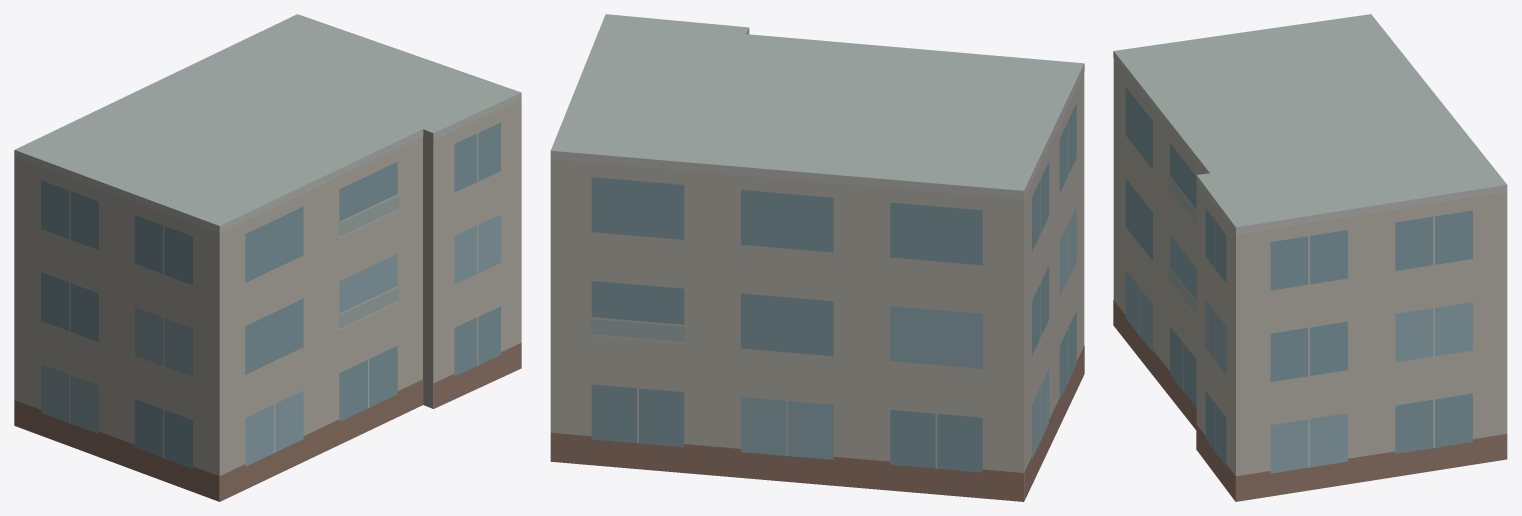
The model's file is survey-upis-32662698.glb.
3 renders of one model, left to right at view 1: azimuth 30°, elevation 25°; view 2: azimuth 150°, elevation 25°; view 3: azimuth 270°, elevation 25°, orthographic. The views are drawn at different scales.
Parts seen in each view (by area): view 1: survey-upis-32662698.tmp; view 2: survey-upis-32662698.tmp; view 3: survey-upis-32662698.tmp.
Part boxes in pixels (x1,y1,x2,y2): survey-upis-32662698.tmp: [14, 14, 521, 501]; survey-upis-32662698.tmp: [550, 14, 1084, 501]; survey-upis-32662698.tmp: [1113, 14, 1507, 501].
Bounding box in the file's own units: 15.26 × 9.15 × 11.9.
